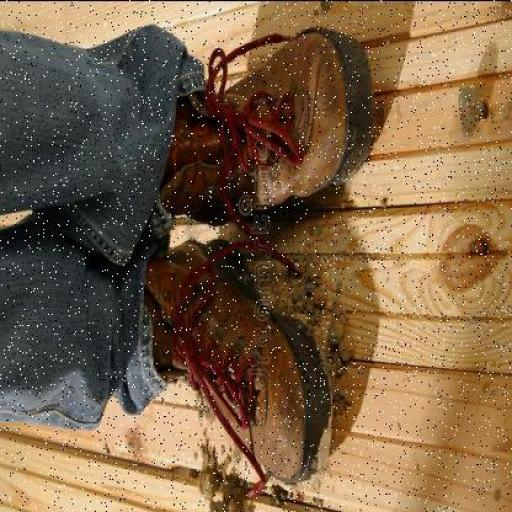safety_shoe: (154, 22, 370, 220), (141, 244, 329, 466)
